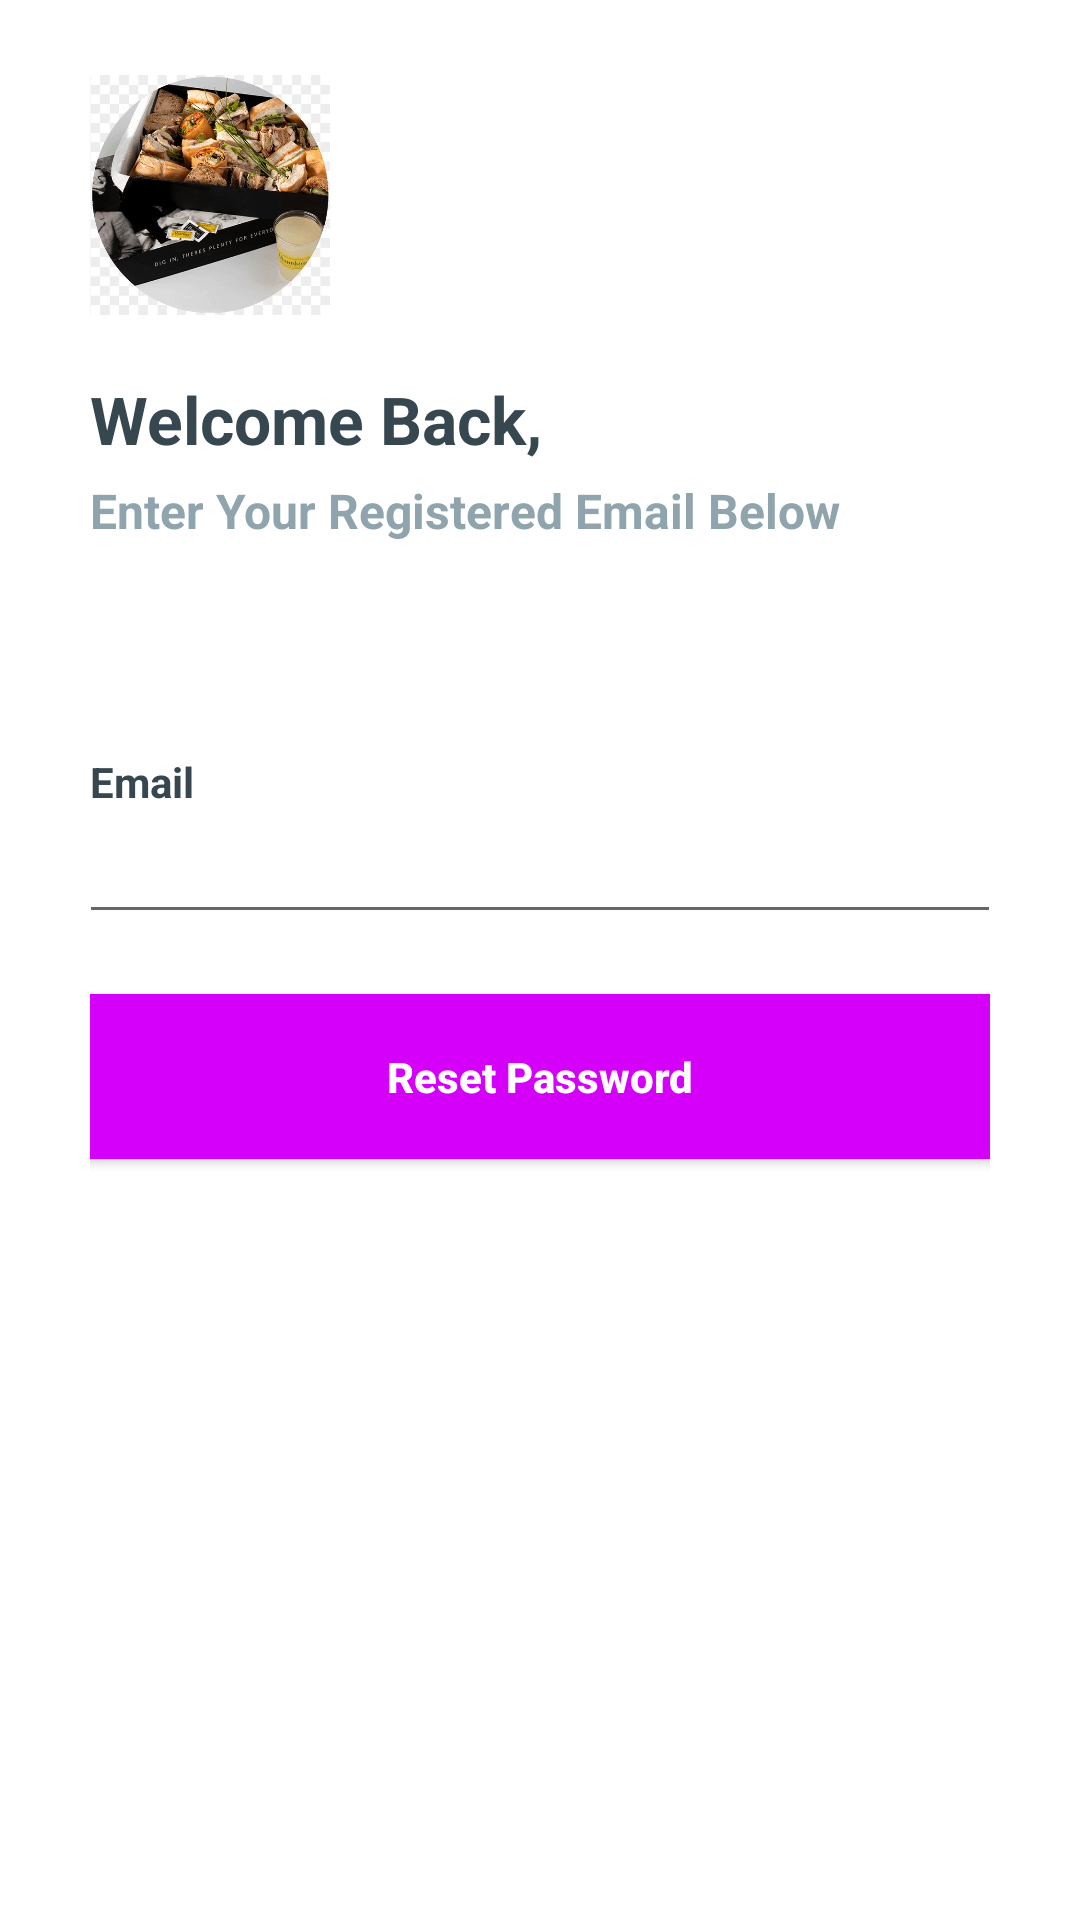

Named icons in this screenshot (1080 × 1920) and their centers, [x,y]:
munchies: [210,195]
